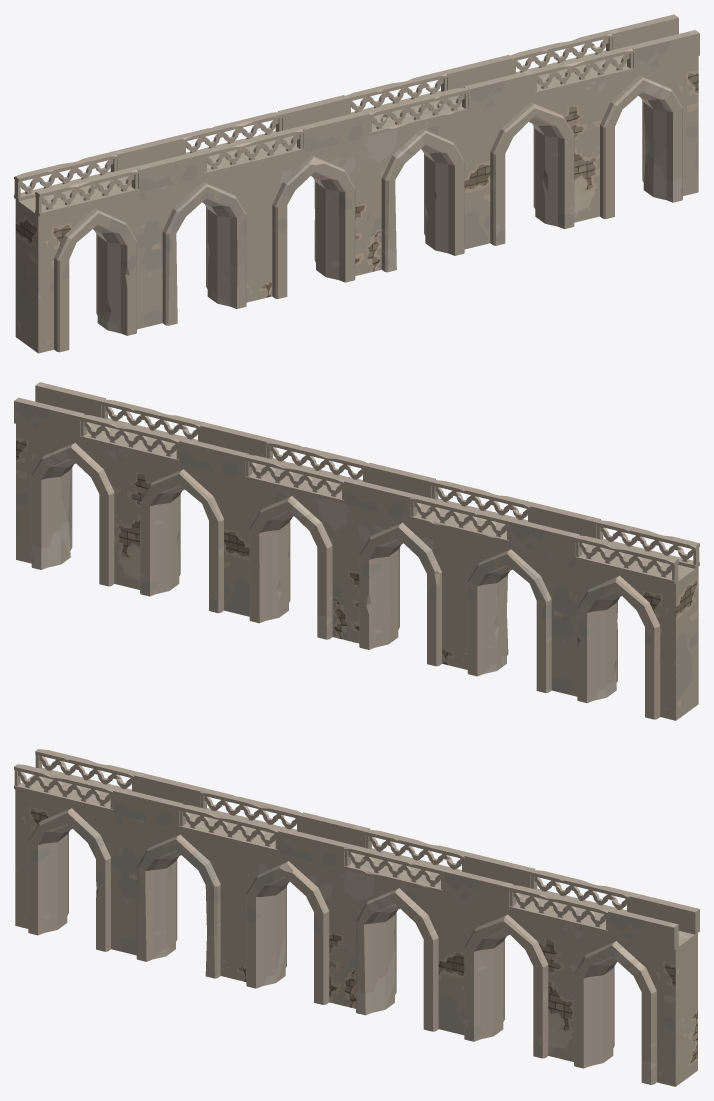
The model's file is SM_Bld_Archway_02.glb.
3 renders of one model, top to bottom at view 1: azimuth 30°, elevation 25°; view 2: azimuth 150°, elevation 25°; view 3: azimuth 330°, elevation 25°, orthographic.
Parts seen in each view (by area): view 1: SM_Bld_Archway_02; view 2: SM_Bld_Archway_02; view 3: SM_Bld_Archway_02.
Part boxes in pixels (<box>): SM_Bld_Archway_02: <box>14,14,699,353</box>; SM_Bld_Archway_02: <box>14,382,699,720</box>; SM_Bld_Archway_02: <box>14,749,699,1086</box>.
Bounding box in the file's own units: 21.04 × 4.88 × 1.7.
1 material, 1 textured.
